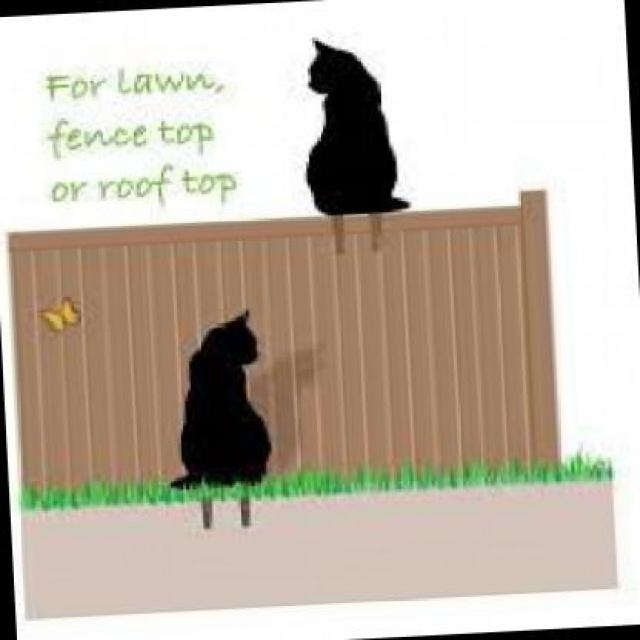animals: (284, 25, 430, 216), (152, 294, 292, 488)
